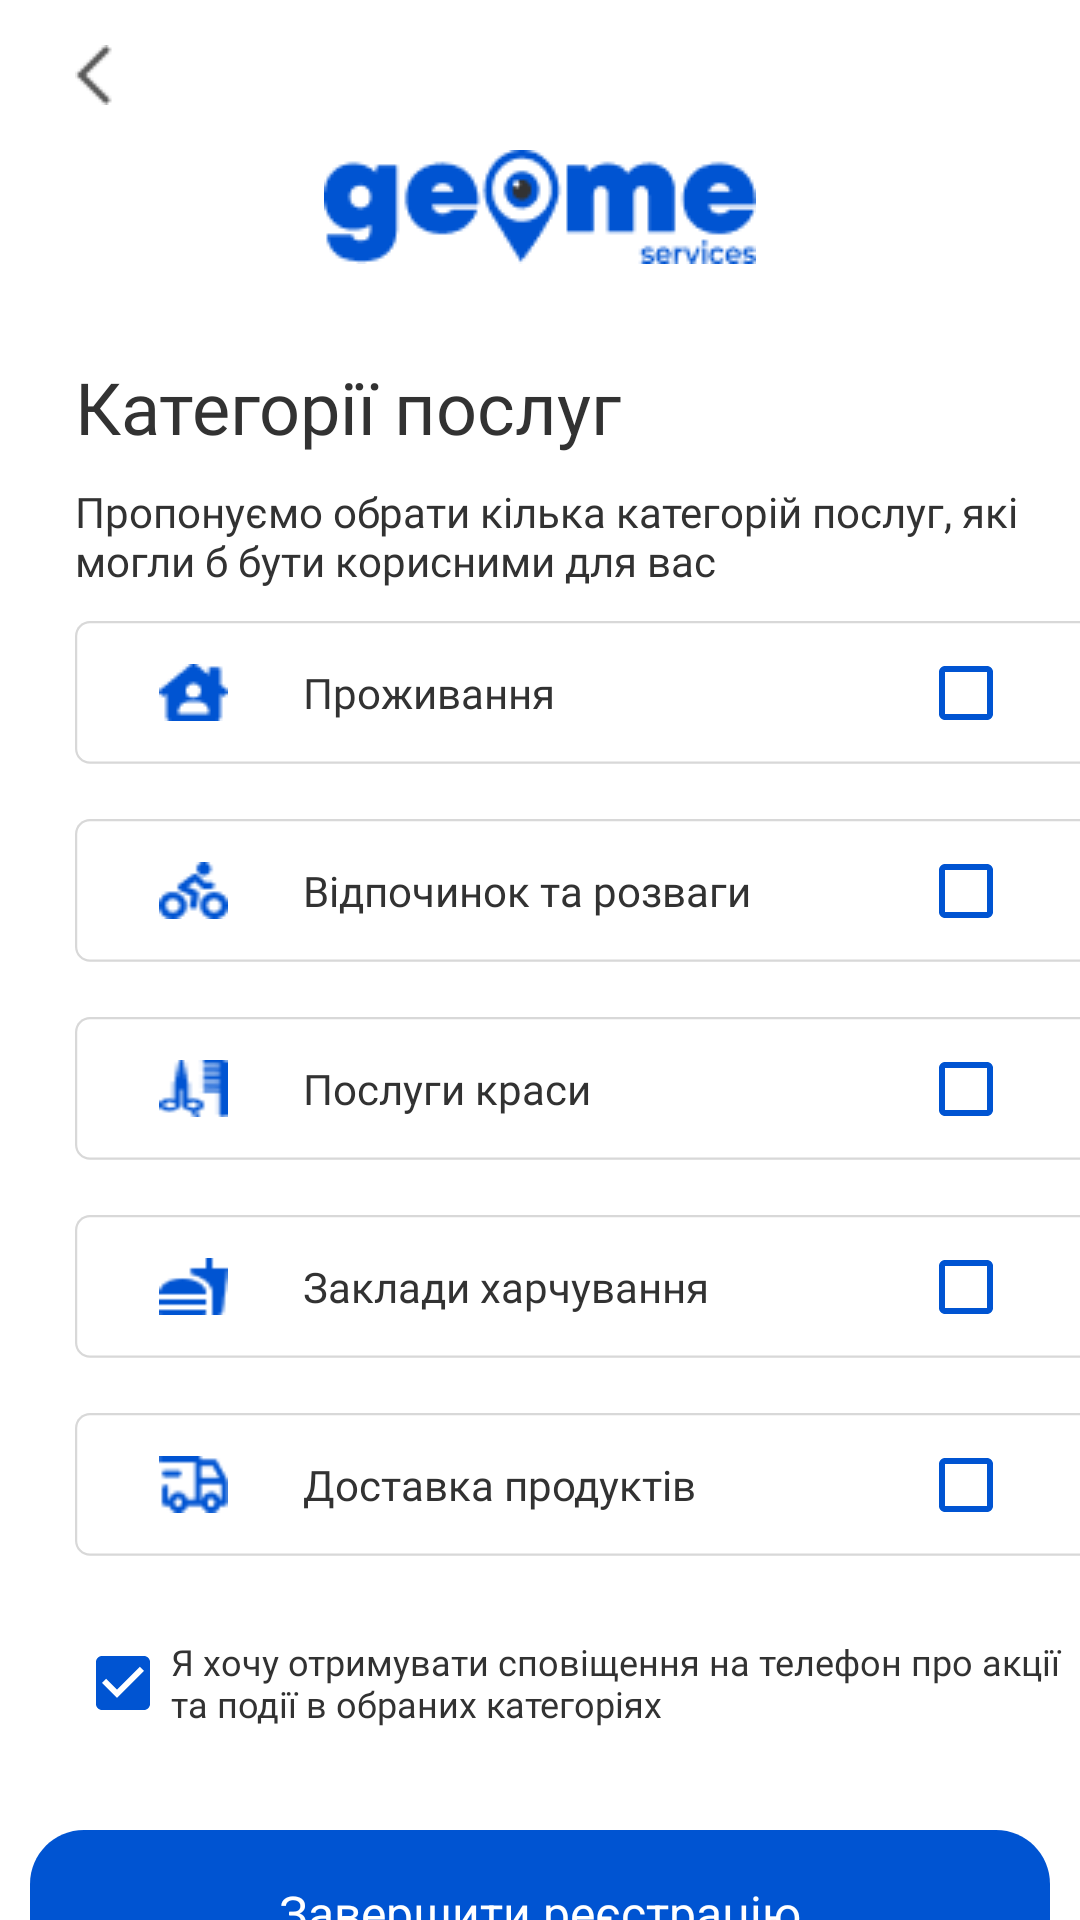

Where to tap for icons on this 1080×1920 app screen, as (x,y):
bike: (193,890)
delivery: (193,1484)
food: (193,1286)
hair: (193,1088)
home: (193,692)
